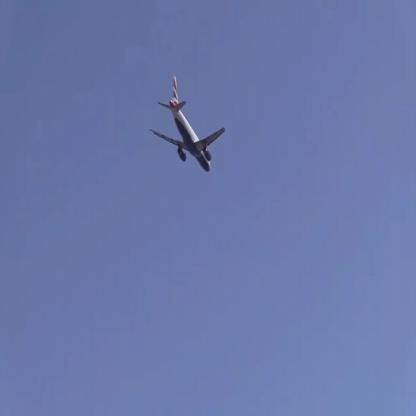CIV_Plane: (150, 73, 228, 172)
